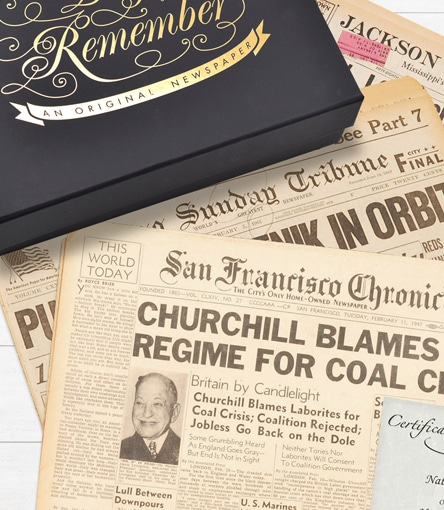news_paper: (1, 1, 443, 448), (20, 214, 444, 510)
